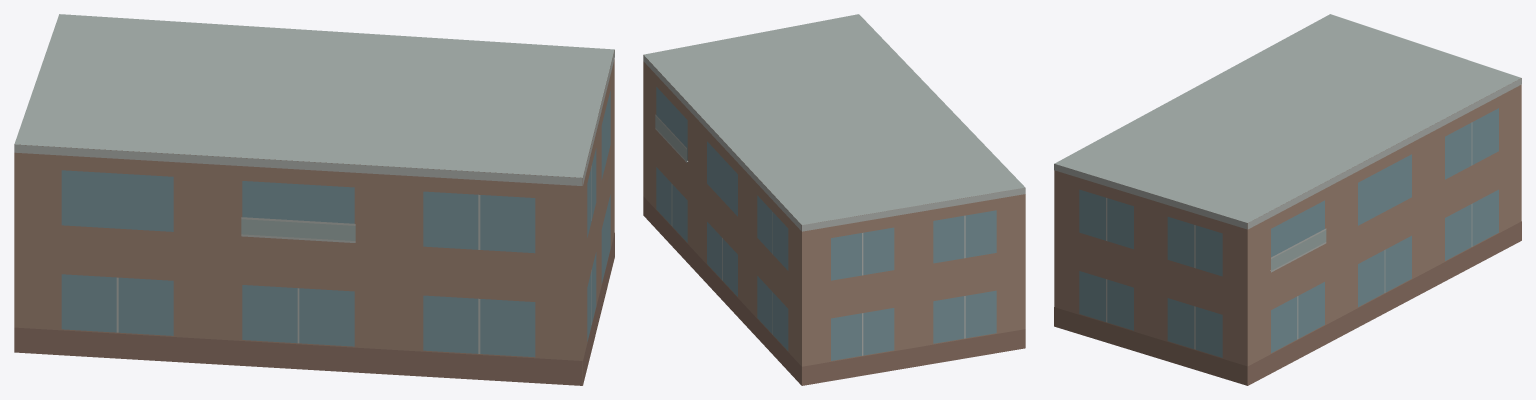
Rendered from survey-upis-32890912.glb.
3 renders of one model, left to right at view 1: azimuth 30°, elevation 25°; view 2: azimuth 150°, elevation 25°; view 3: azimuth 270°, elevation 25°, orthographic. The views are drawn at different scales.
Parts seen in each view (by area): view 1: survey-upis-32890912.tmp; view 2: survey-upis-32890912.tmp; view 3: survey-upis-32890912.tmp.
Boxes of the visible parts, x1,y1,x2,y2 form: survey-upis-32890912.tmp: [14, 14, 614, 385]; survey-upis-32890912.tmp: [643, 14, 1025, 385]; survey-upis-32890912.tmp: [1054, 14, 1521, 385].
Bounding box in the file's own units: 16.81 × 6.1 × 15.89.
